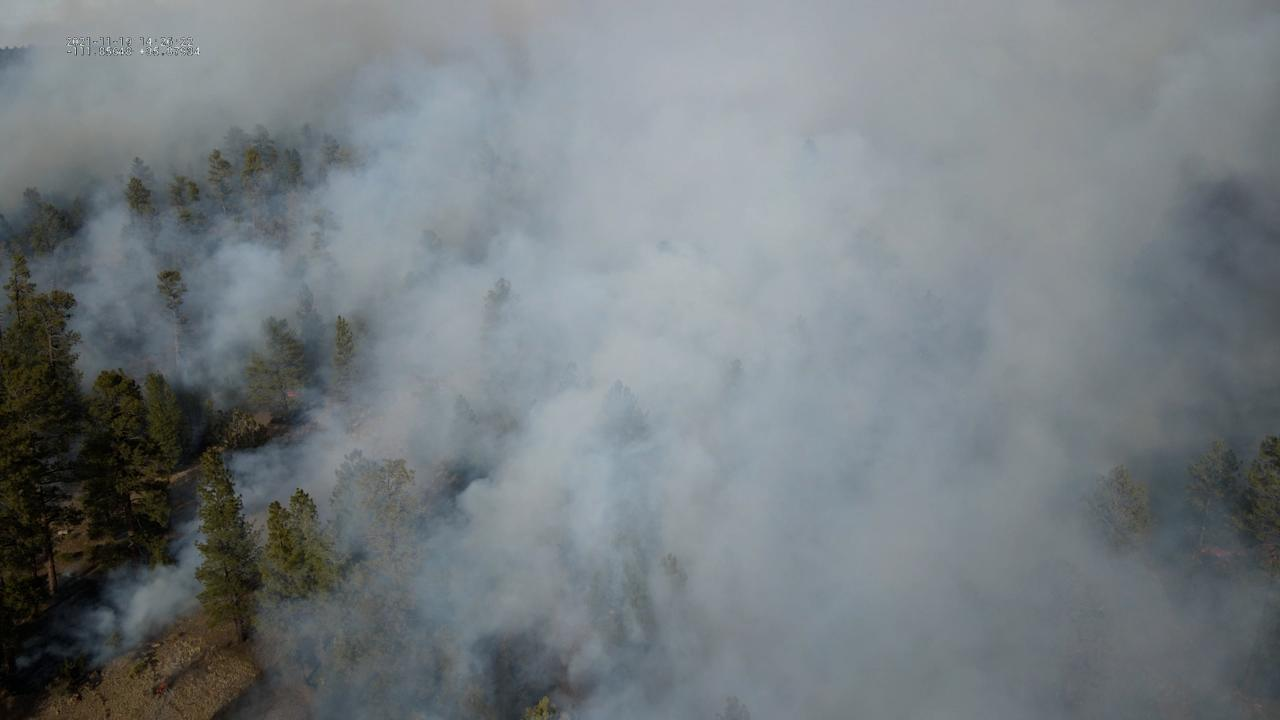fire: (1197, 546, 1226, 560), (154, 682, 167, 696), (285, 389, 301, 399)
smoke: (0, 0, 1280, 720)
